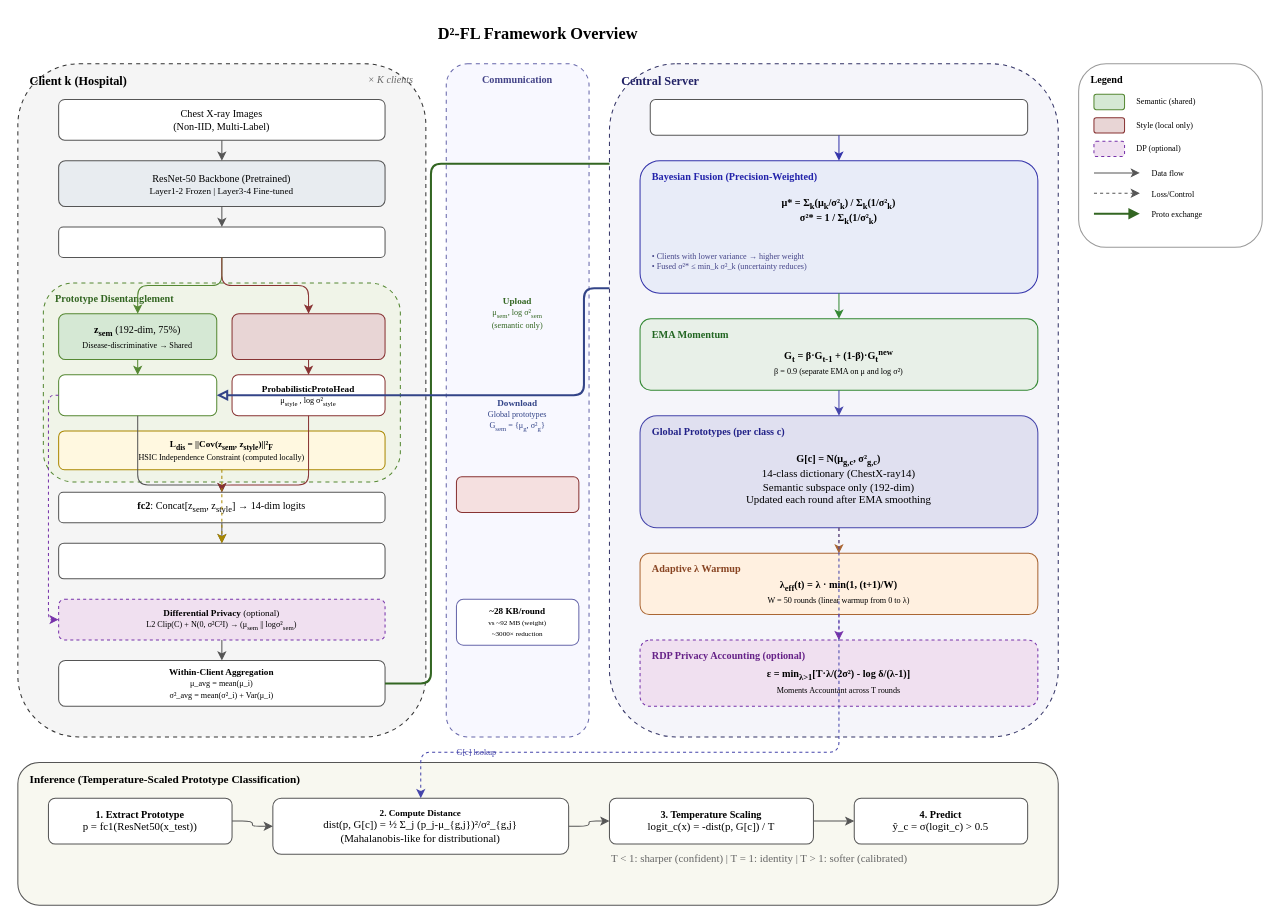
This 1280x923 diagram has some shape labels left out. Here are the shapes that lost their labels. From the top down, the box of each, then its label:
(649, 98, 1028, 135): Receive {μ sem (k) , σ² sem (k) } from K clients
(58, 226, 385, 258): fc1: 2048 → 256 (ReLU)
(231, 313, 385, 360): z style (64-dim, 25%) Imaging characteristics → Local
(58, 374, 217, 416): ProbabilisticProtoHead μ sem , log σ² sem
(455, 476, 579, 513): Style stays local z style never uploaded
(58, 542, 385, 579): Local Loss: L = L BCE + λ eff ·L proto sem + λ dis ·L dis
